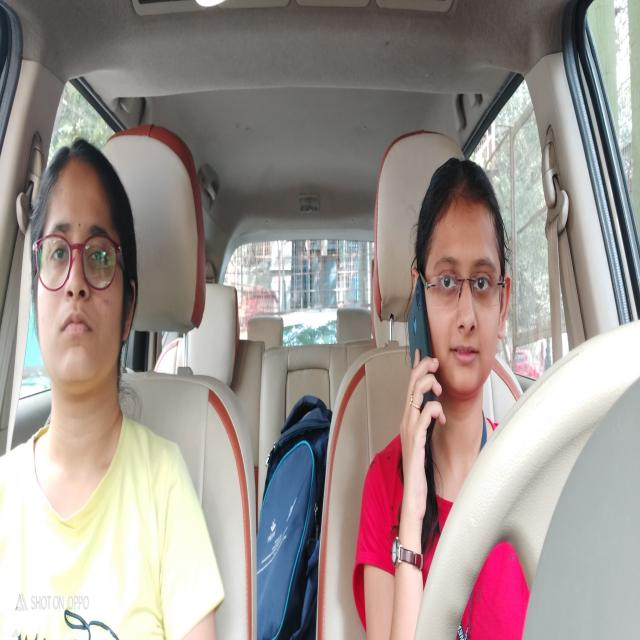mobile: (405, 284, 438, 428)
person: (27, 125, 137, 395), (416, 155, 510, 397)
